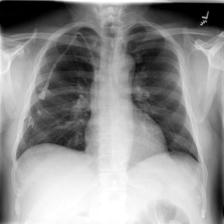normal: (11, 22, 206, 179)
